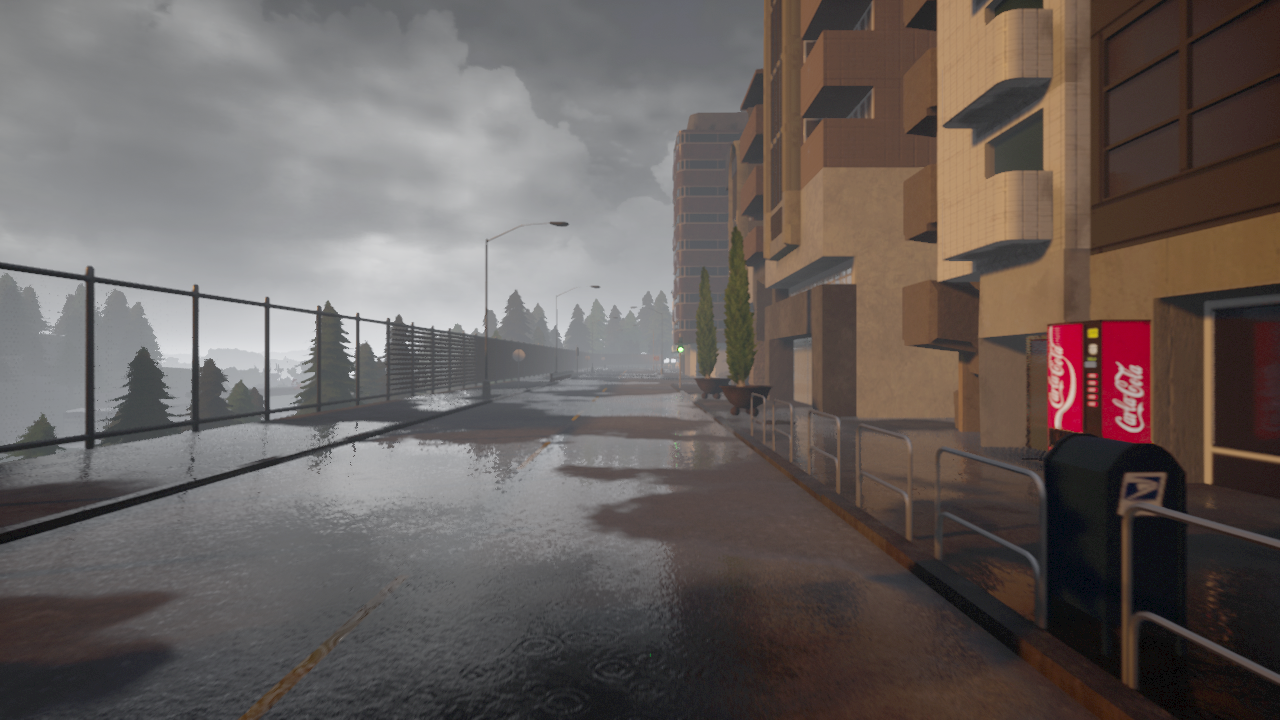green: (677, 336, 684, 353)
